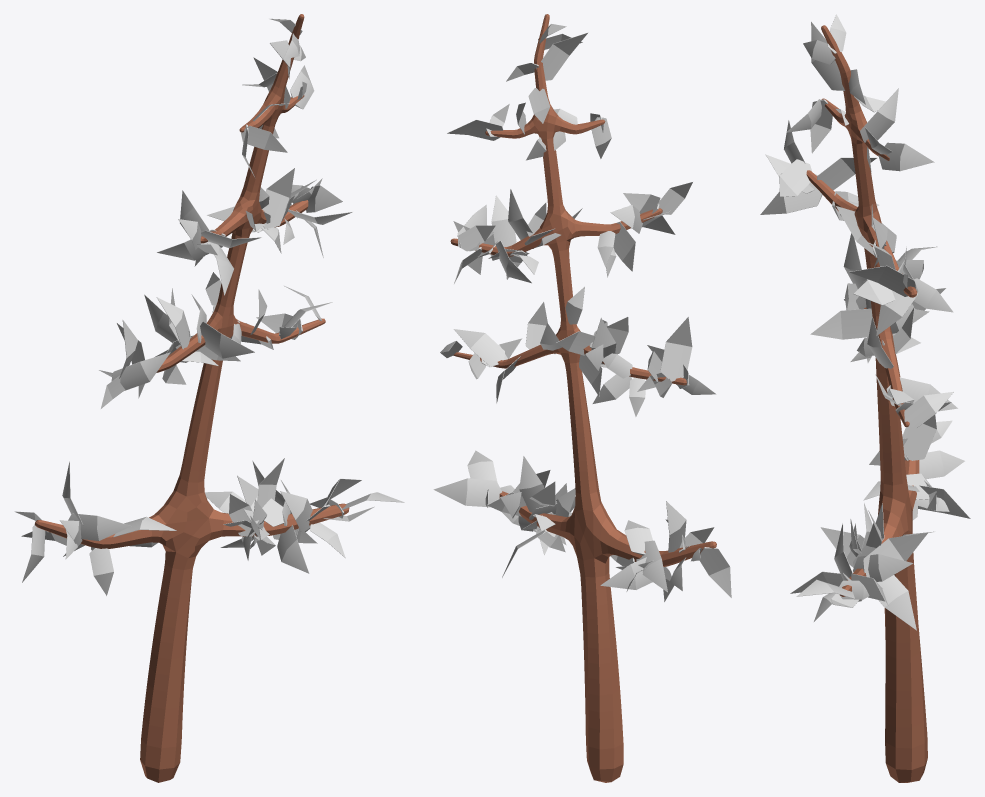
The model's file is Tree2.fbx.
3 renders of one model, left to right at view 1: azimuth 30°, elevation 25°; view 2: azimuth 150°, elevation 25°; view 3: azimuth 270°, elevation 25°, orthographic. The views are drawn at different scales.
Parts seen in each view (by area): view 1: Tree2_Leafes, Tree2; view 2: Tree2_Leafes, Tree2; view 3: Tree2_Leafes, Tree2.
Boxes of the visible parts, bbox=[...] form: Tree2_Leafes: bbox=[14, 18, 404, 595]; Tree2: bbox=[34, 14, 349, 782]; Tree2_Leafes: bbox=[433, 24, 731, 601]; Tree2: bbox=[450, 14, 716, 782]; Tree2_Leafes: bbox=[760, 14, 970, 630]; Tree2: bbox=[806, 25, 927, 782].
Size of the model in its own units: 217 by 484 by 114.
